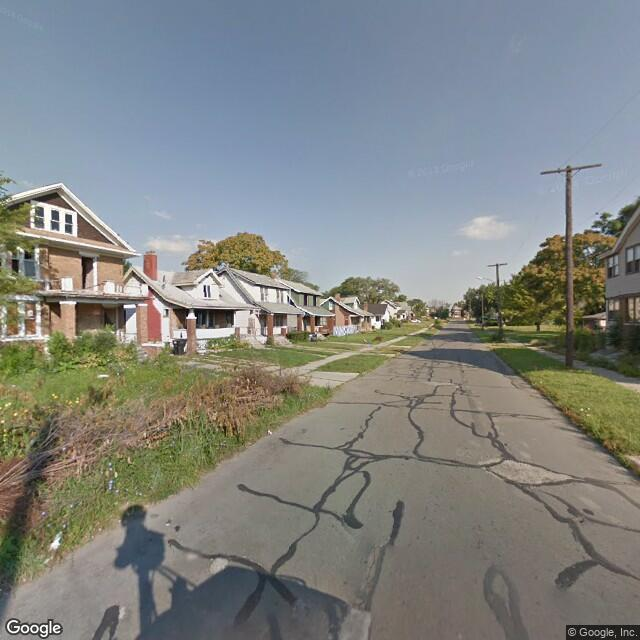litter: (26, 525, 72, 560), (97, 464, 125, 496)
